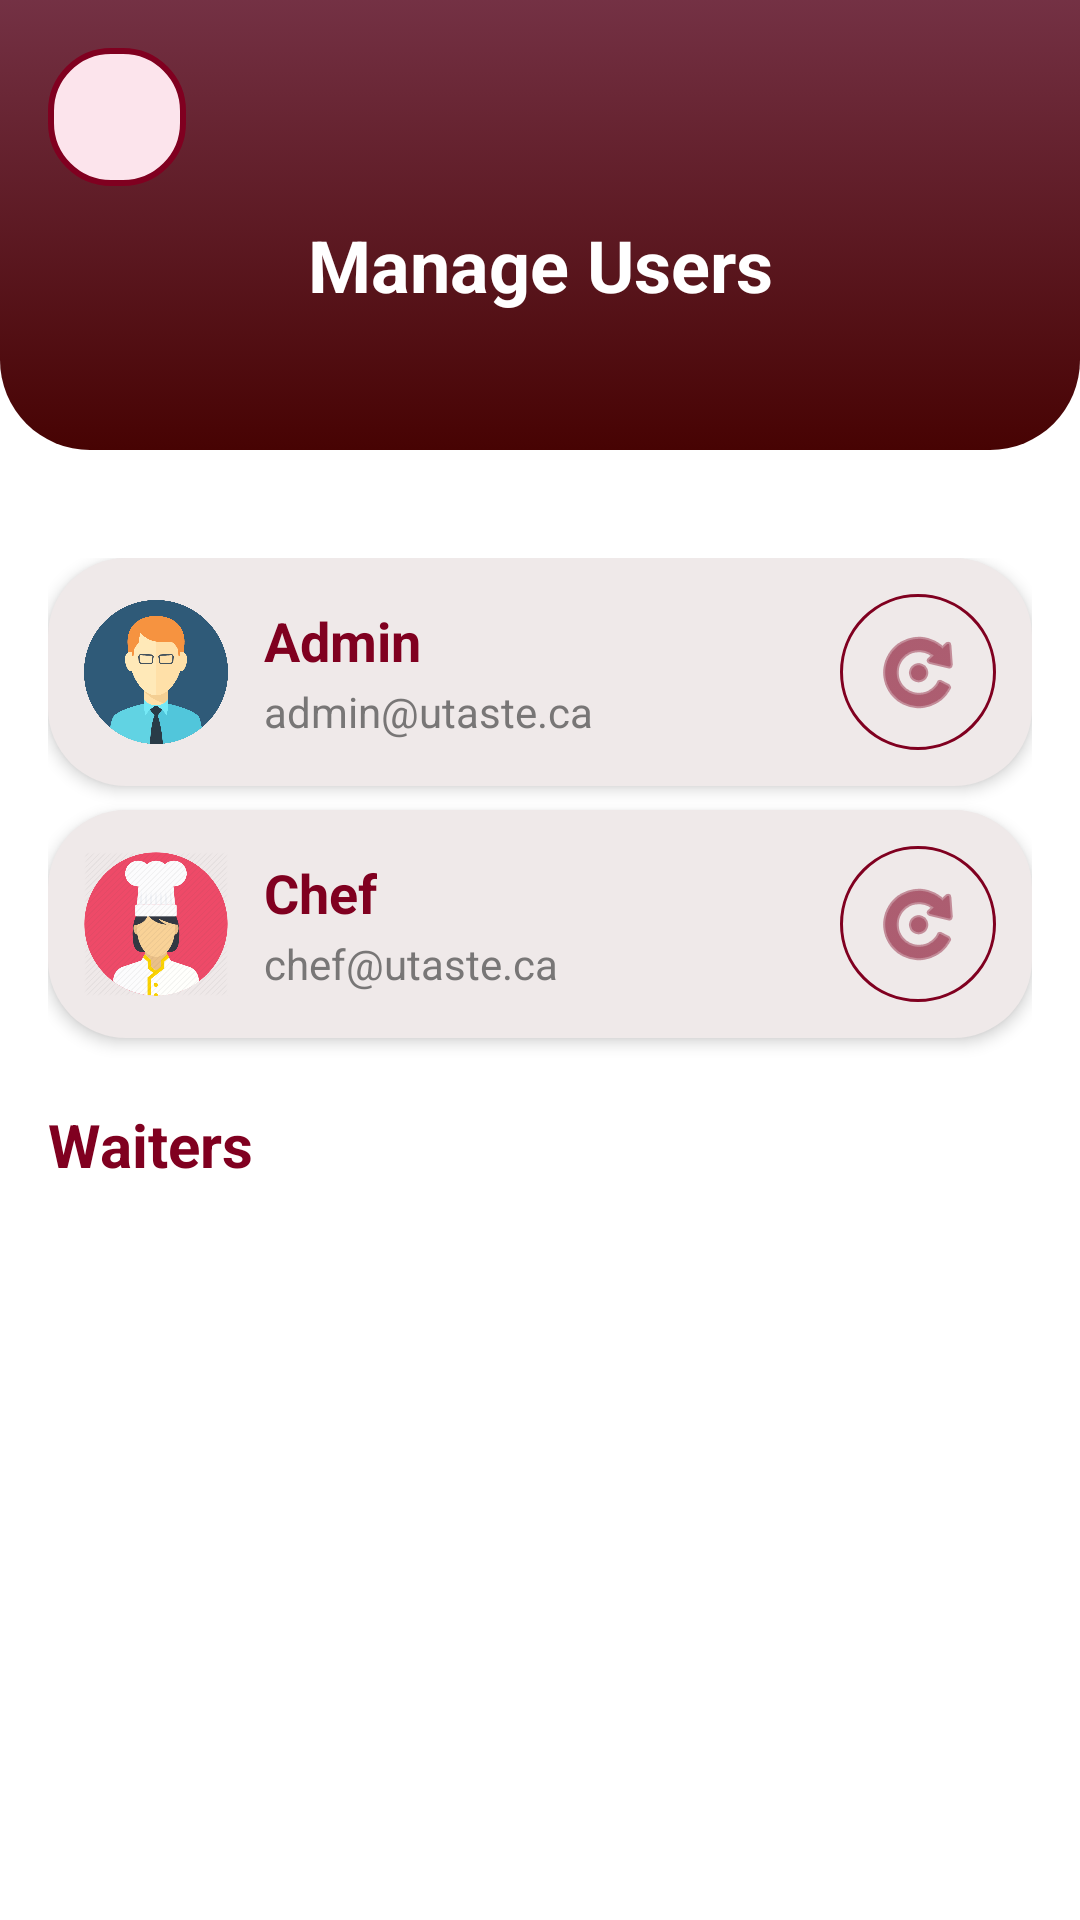

Where icons sit on this 1080px×1920px app screen, as (x1, y1, x2, y2):
rotate: (840, 594, 996, 750), (840, 846, 996, 1002)
